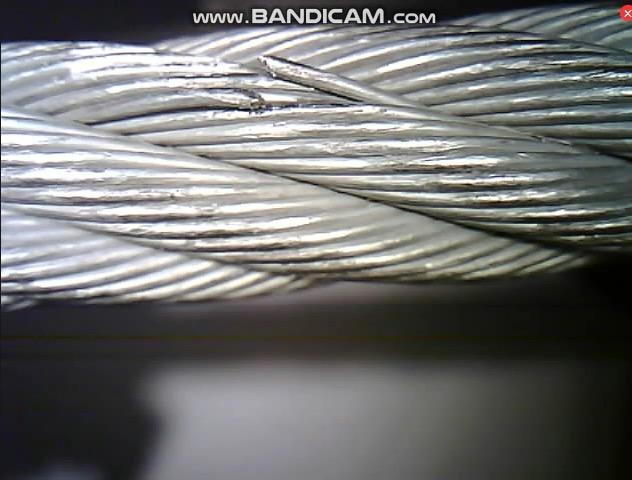break: (214, 49, 296, 122)
